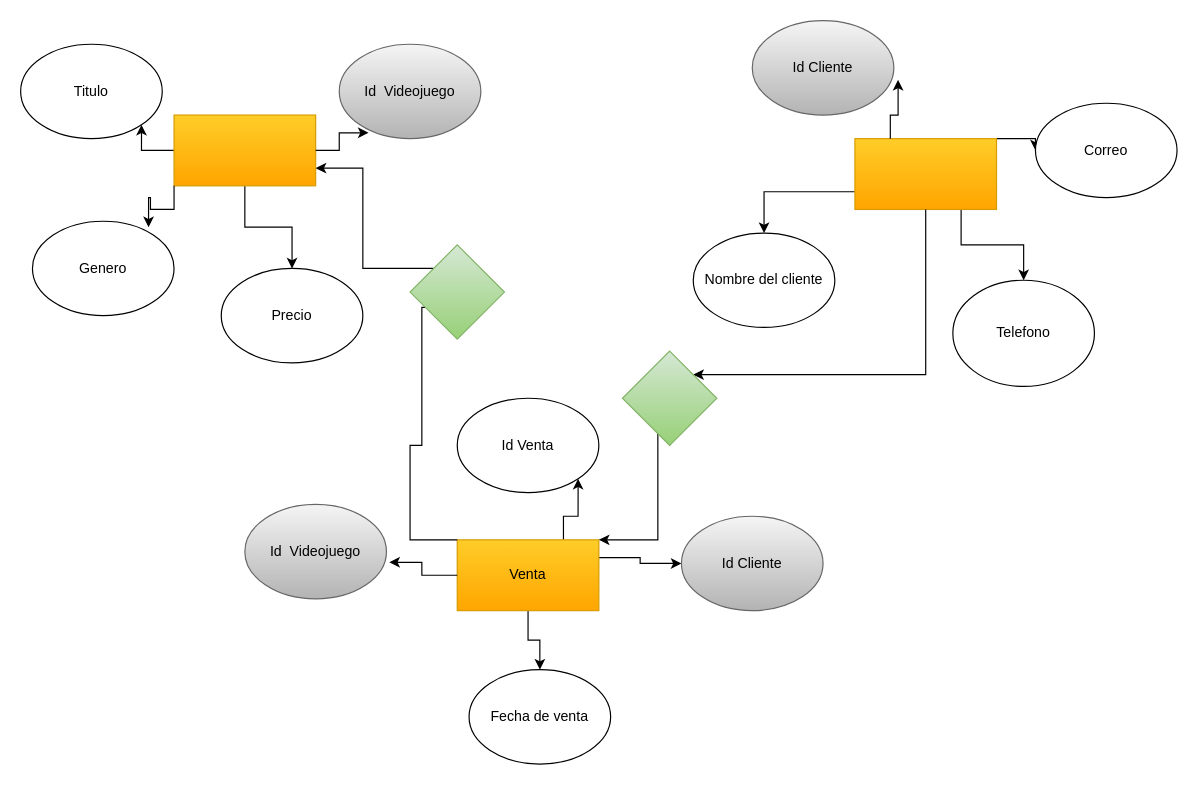
Image size: 1198x785. Some labels were removed from this diagram. The shapes that lost their labels are listed below. From the top down, each one's box as (x1, y1, x2, y2) in pixels, then its label:
(173, 114, 316, 186): Videojuego
(854, 137, 997, 209): Cliente
(409, 244, 504, 339): Incluye
(621, 350, 717, 445): Genera una
